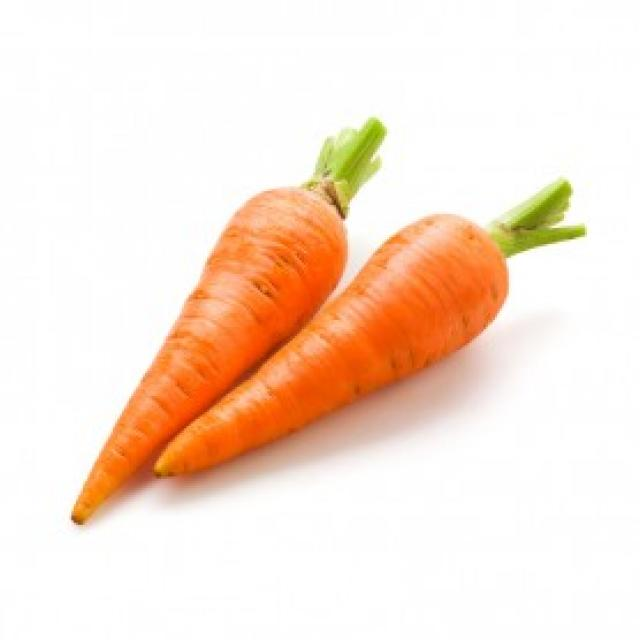Carrot: (56, 118, 404, 534), (151, 175, 583, 476)
